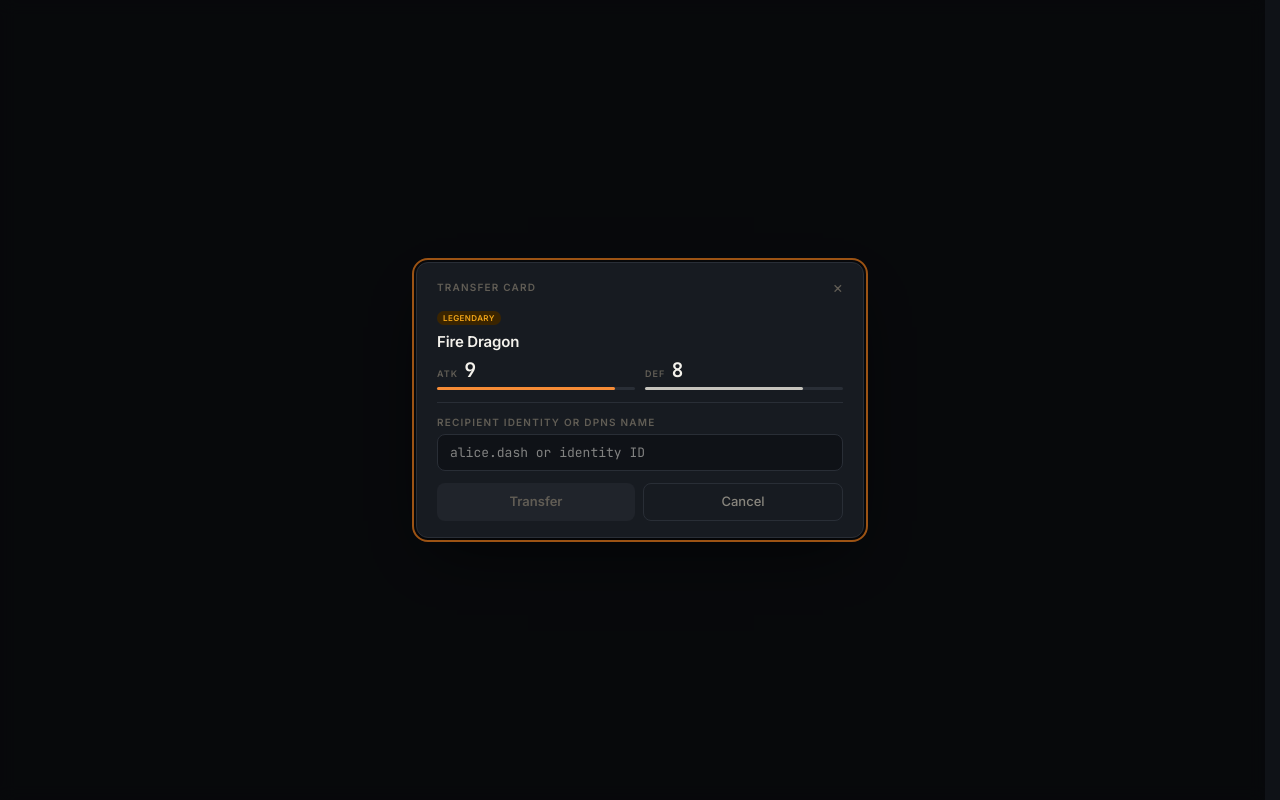
Test case: TransferModal › disables controls and shows the in-flight label while submitting
Type "alice.dash" into the field labelled "Recipient identity or DPNS name" at [640, 452], box [437,434,843,471]
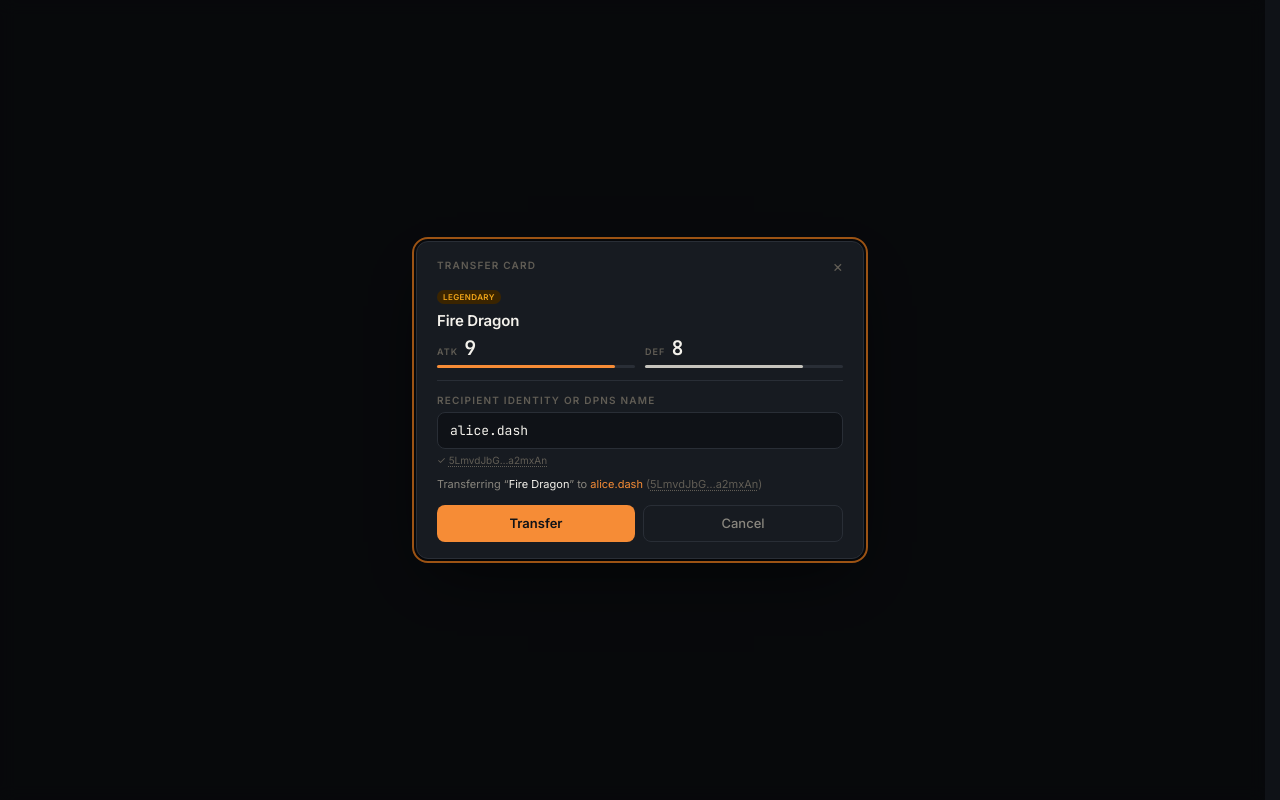
Click the button "Transfer" at [536, 524], box [437,505,635,542]
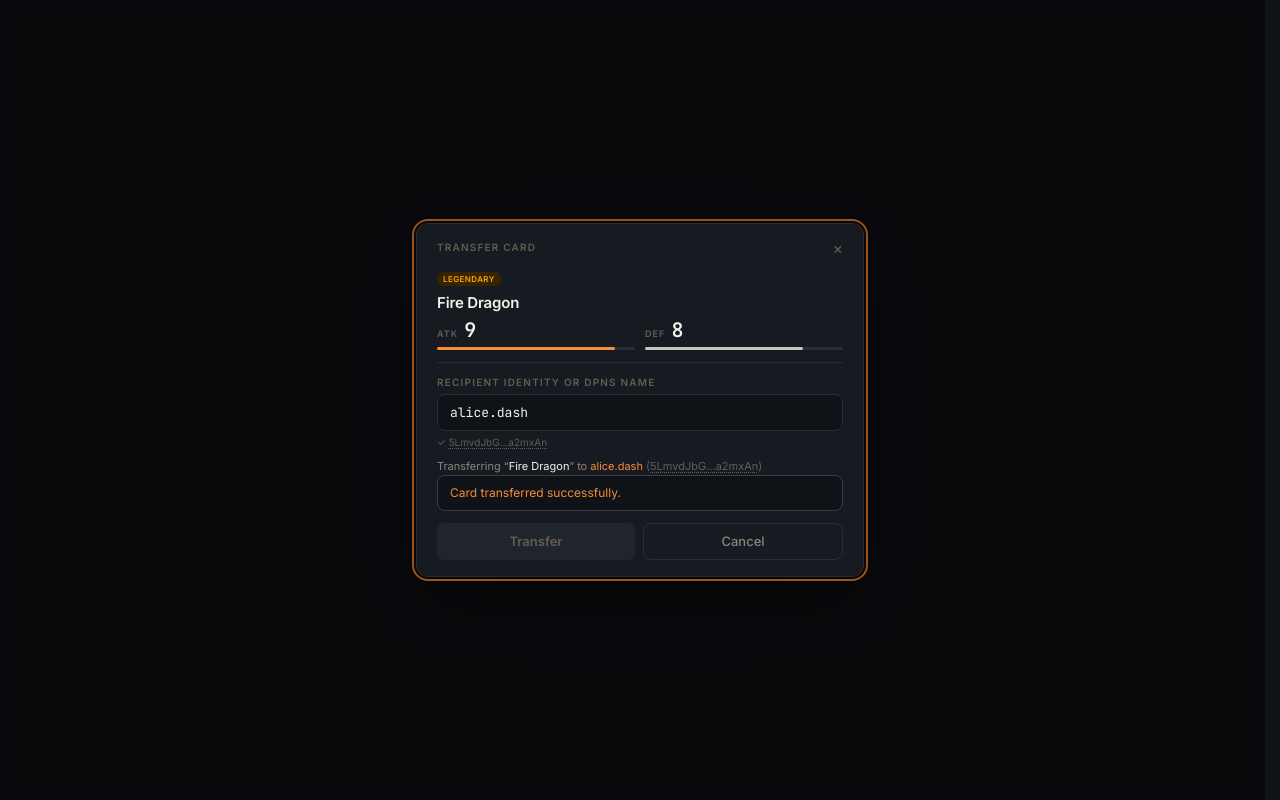
Expected: the button named "Transferring…" is disabled, [437,523,635,560]
Expected: the button "Cancel" is disabled, [643,523,843,560]
Expected: the message reads "Card transferred successfully.", [450,485,621,500]
